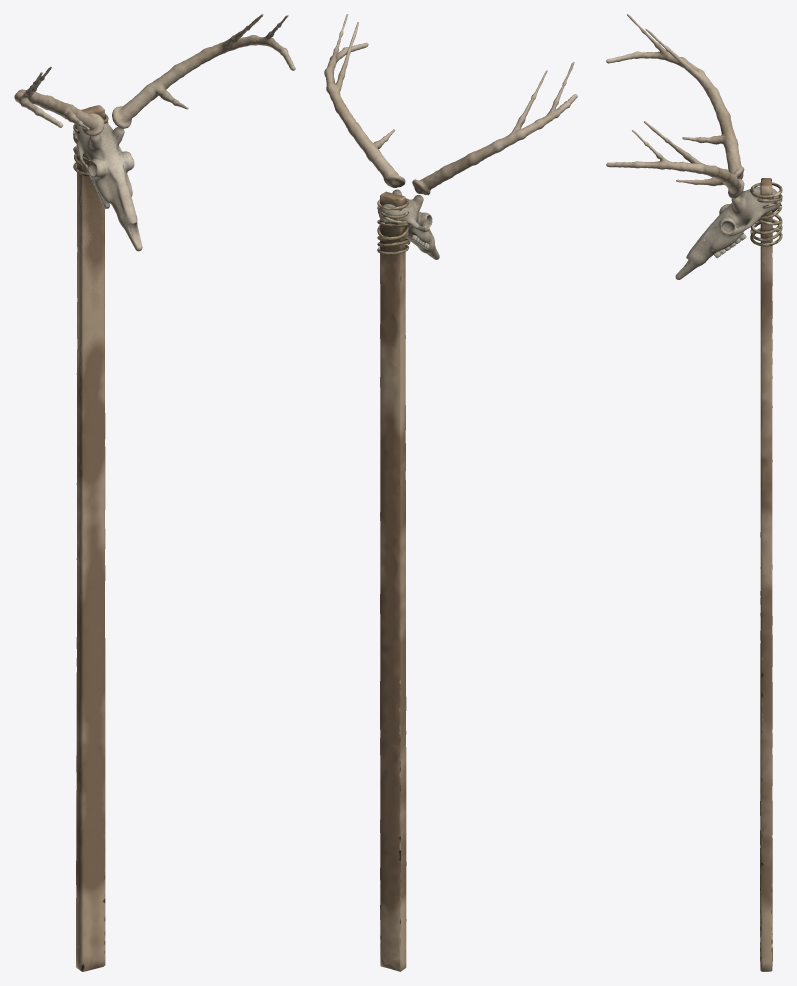
The model's file is antler_stave.glb.
3 views of the same model, side by side, from view 1: azimuth 30°, elevation 25°; view 2: azimuth 150°, elevation 25°; view 3: azimuth 270°, elevation 25° (orthographic). The views are drawn at different scales.
Parts seen in each view (by area): view 1: Stave_Pole, Stave_Antlers, Stave_Skull; view 2: Stave_Pole, Stave_Antlers, Stave_Skull, Stave_Twine; view 3: Stave_Pole, Stave_Antlers, Stave_Skull, Stave_Twine.
Boxes of the visible parts, bbox=[...] form: Stave_Pole: bbox=[76, 105, 105, 971]; Stave_Antlers: bbox=[14, 14, 295, 136]; Stave_Skull: bbox=[75, 119, 142, 251]; Stave_Pole: bbox=[380, 191, 406, 971]; Stave_Antlers: bbox=[324, 14, 577, 195]; Stave_Skull: bbox=[379, 189, 439, 259]; Stave_Twine: bbox=[377, 198, 408, 254]; Stave_Pole: bbox=[760, 178, 772, 971]; Stave_Antlers: bbox=[606, 14, 744, 198]; Stave_Skull: bbox=[675, 186, 779, 279]; Stave_Twine: bbox=[750, 182, 782, 246].
Size of the model in its own units: 0.8035 by 2.96 by 0.5276.
Materials: 1 (1 with a texture image).
